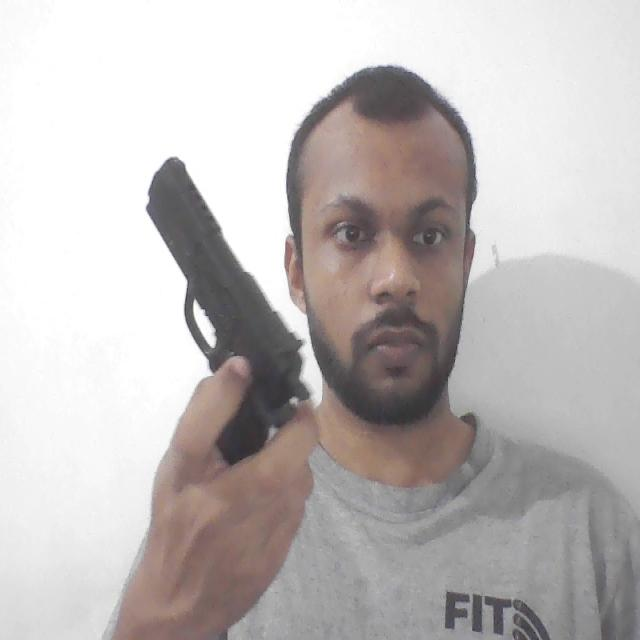handgun: (143, 152, 313, 466)
